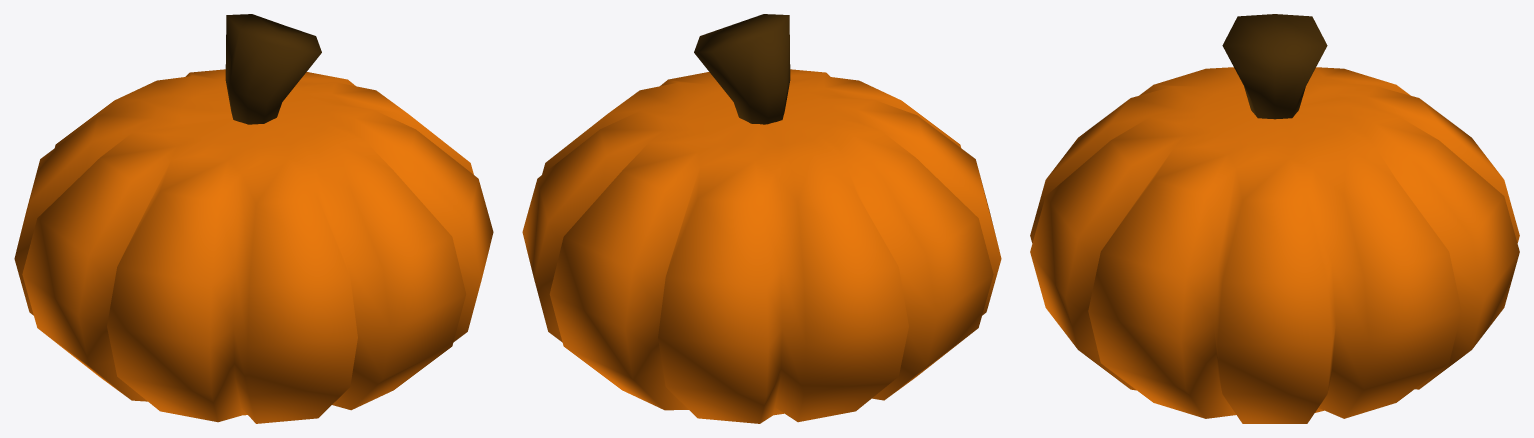
File: Pumpkin.fbx
The picture shows the model from 3 angles, left to right: view 1: azimuth 30°, elevation 25°; view 2: azimuth 150°, elevation 25°; view 3: azimuth 270°, elevation 25°; orthographic projection.
Visible parts, largest first — view 1: Pumpkin; view 2: Pumpkin; view 3: Pumpkin.
Part boxes in pixels (box(x1,y1,x2,y2)): Pumpkin: box(14, 14, 493, 423); Pumpkin: box(522, 14, 1001, 423); Pumpkin: box(1030, 14, 1519, 423).
Size of the model in its own units: 63.32 by 52.01 by 64.92.
